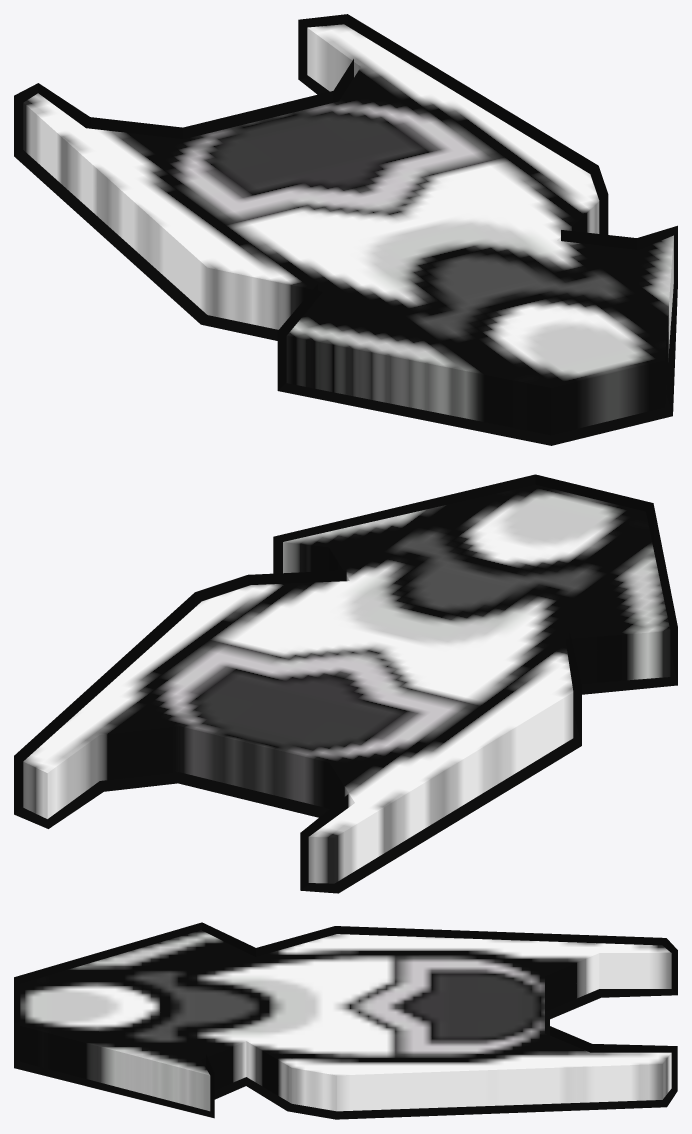
The model's file is Item_Apparel_MechlordSuit_Things_Pawn_Humanlike_Apparel_MechlordSuit_MechlordSuit_Thin.glb.
3 views of the same model, one above another, from view 1: azimuth 30°, elevation 25°; view 2: azimuth 150°, elevation 25°; view 3: azimuth 270°, elevation 25° (orthographic). The views are drawn at different scales.
Visible parts, largest first — view 1: Body, Outline; view 2: Body, Outline; view 3: Body, Outline.
Part boxes in pixels (x1,y1,x2,y2): Body: (23, 24, 673, 435); Outline: (14, 14, 677, 445); Body: (23, 484, 670, 883); Outline: (14, 474, 677, 893); Body: (20, 930, 671, 1111); Outline: (14, 922, 677, 1119).
Size of the model in its own units: 0.309 by 0.0486 by 0.5735.
2 materials, 1 textured.
